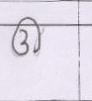i_matra: (23, 16, 46, 53)
